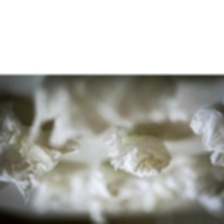tissue: (0, 103, 87, 210), (97, 121, 176, 183), (185, 102, 223, 170)
